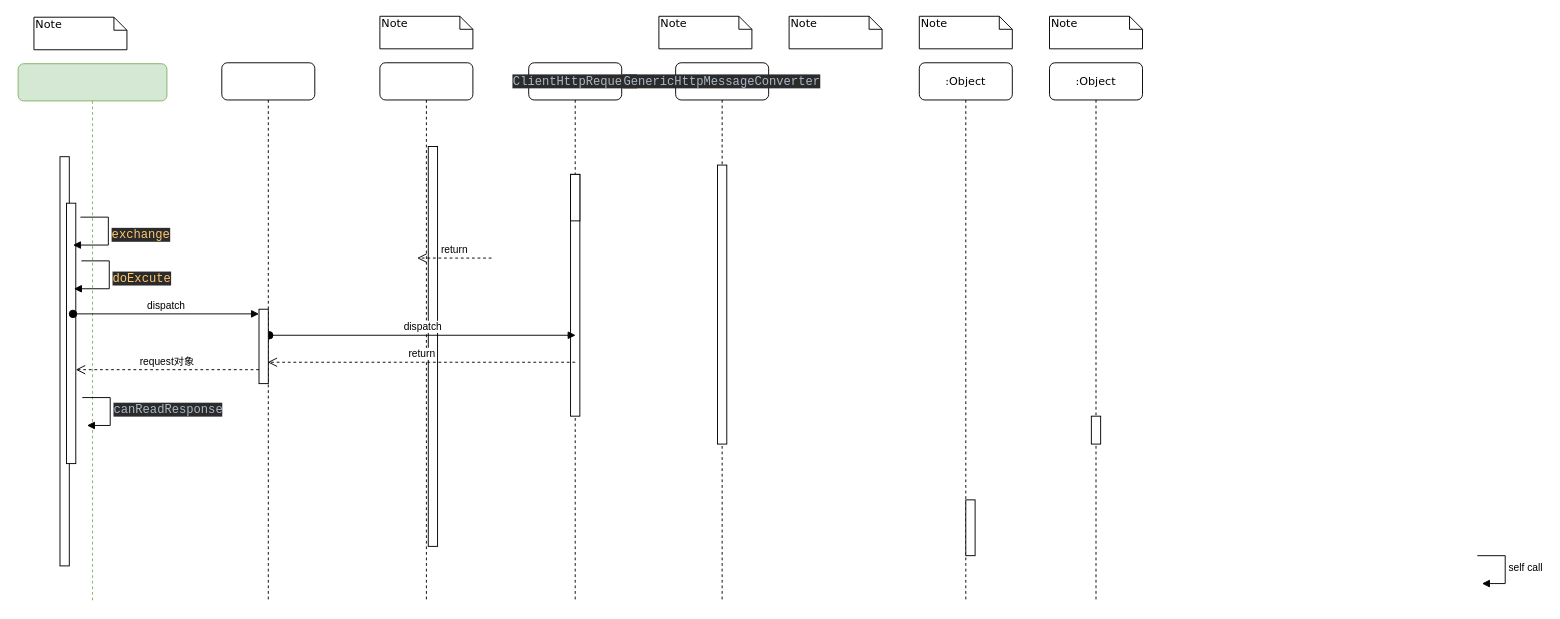
Some shapes in this 1560 by 619 pixel diagram are drawn without their labels. Here are the shapes that lost their labels. From the top down, the centre of each, then its label:
point (92, 333): RestTempletImplClient
point (268, 332): ClientHttpRequestFactory
point (426, 332): RestTemplet
